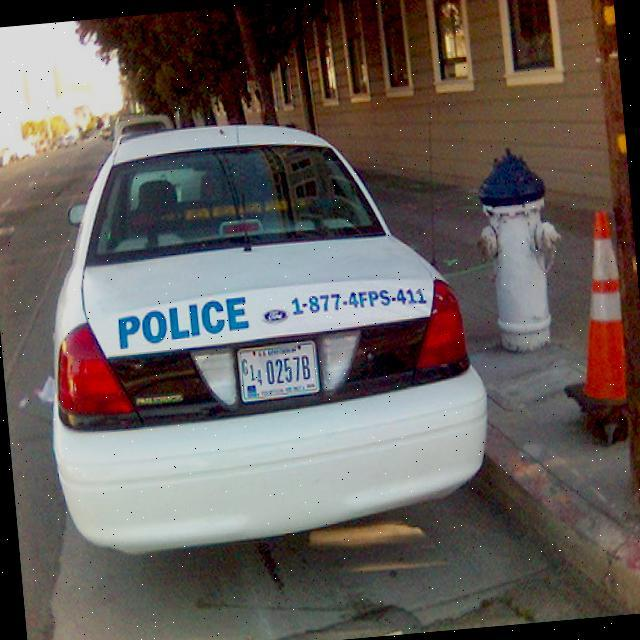fire_hydrant: (467, 138, 564, 370)
